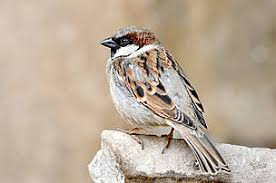hsparrow: (99, 25, 233, 177)
